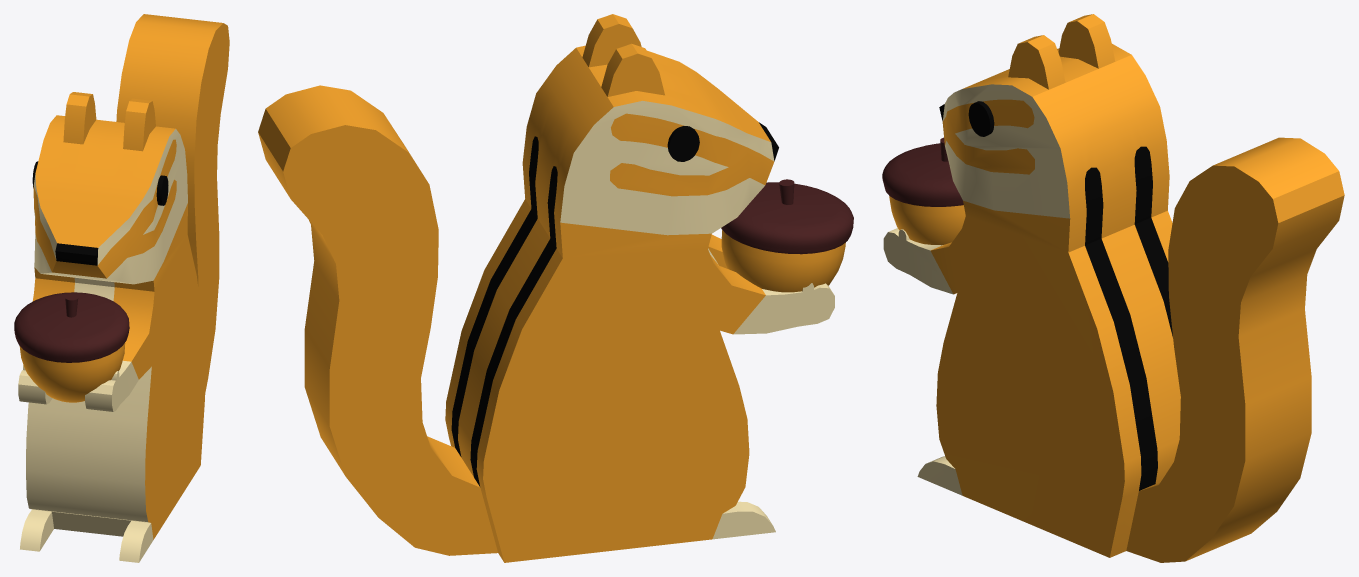
Rendered from chipmunk.gltf.
3 views of the same model, side by side, from view 1: azimuth 30°, elevation 25°; view 2: azimuth 150°, elevation 25°; view 3: azimuth 270°, elevation 25° (orthographic). The views are drawn at different scales.
Visible parts, largest first — view 1: Plane.141, Sphere.382, Circle.1920; view 2: Plane.141, Sphere.382, Circle.1920; view 3: Plane.141, Sphere.382, Circle.1920.
Boxes of the visible parts, x1,y1,x2,y2 form: Plane.141: (18, 14, 229, 562); Sphere.382: (14, 292, 129, 402); Circle.1920: (32, 161, 168, 205); Plane.141: (258, 14, 834, 562); Sphere.382: (721, 179, 853, 292); Circle.1920: (667, 126, 699, 161); Plane.141: (883, 14, 1344, 562); Sphere.382: (882, 137, 965, 245); Circle.1920: (968, 101, 994, 136).
Size of the model in its own units: 1.65 by 1.84 by 1.64.
1 material, 1 textured.
